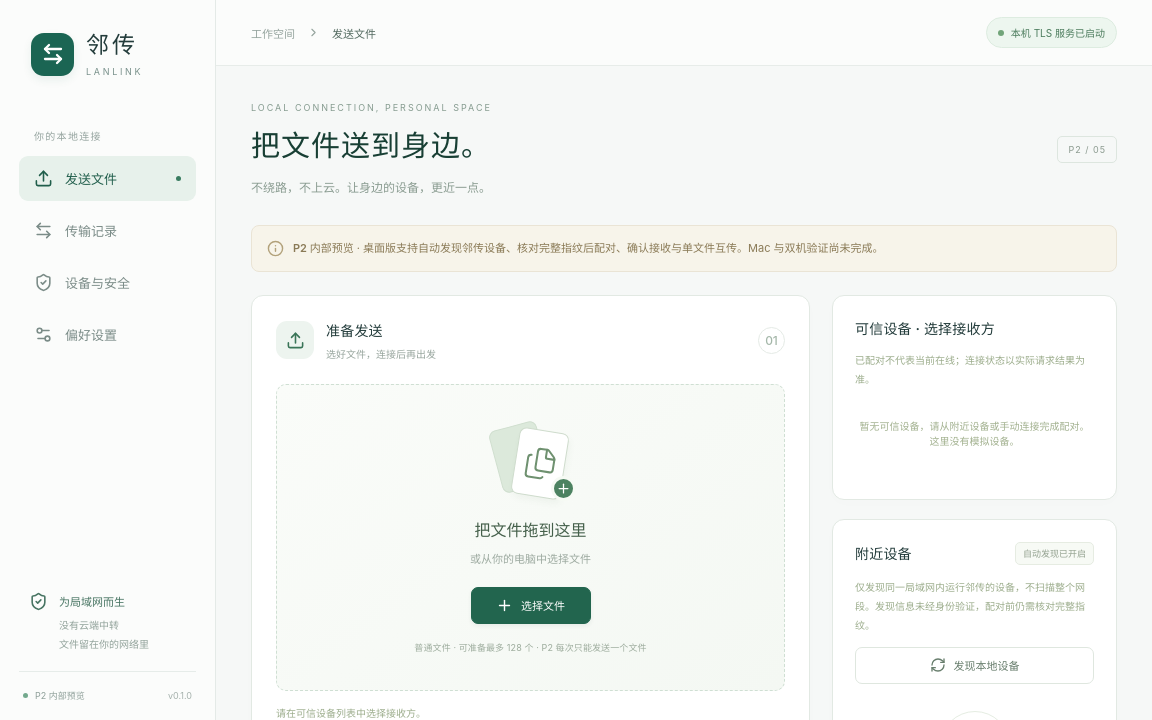
Test: desktop IPC integration › renders actual failing diagnostic output
Click the button "设备与安全" at (108, 282), box [19,260,196,305]
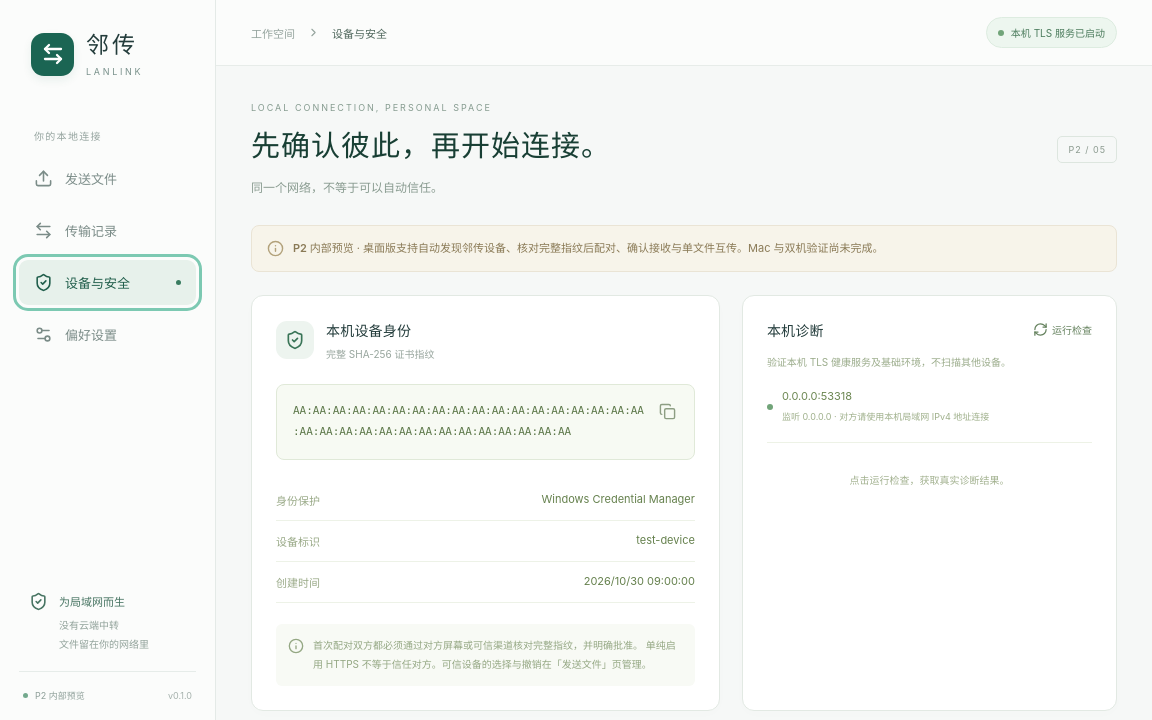
Click the button "运行检查" at (1062, 330), box [1033,322,1092,337]
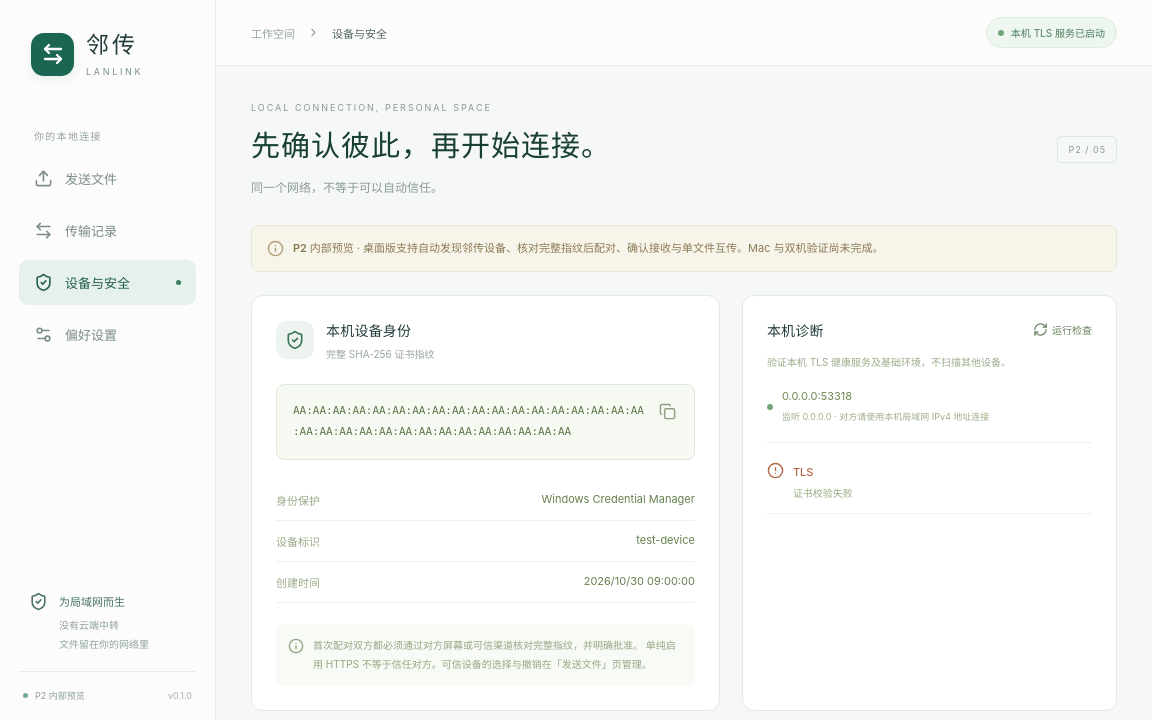
Expected: the text "证书校验失败" is shown, [793,484,853,502]
